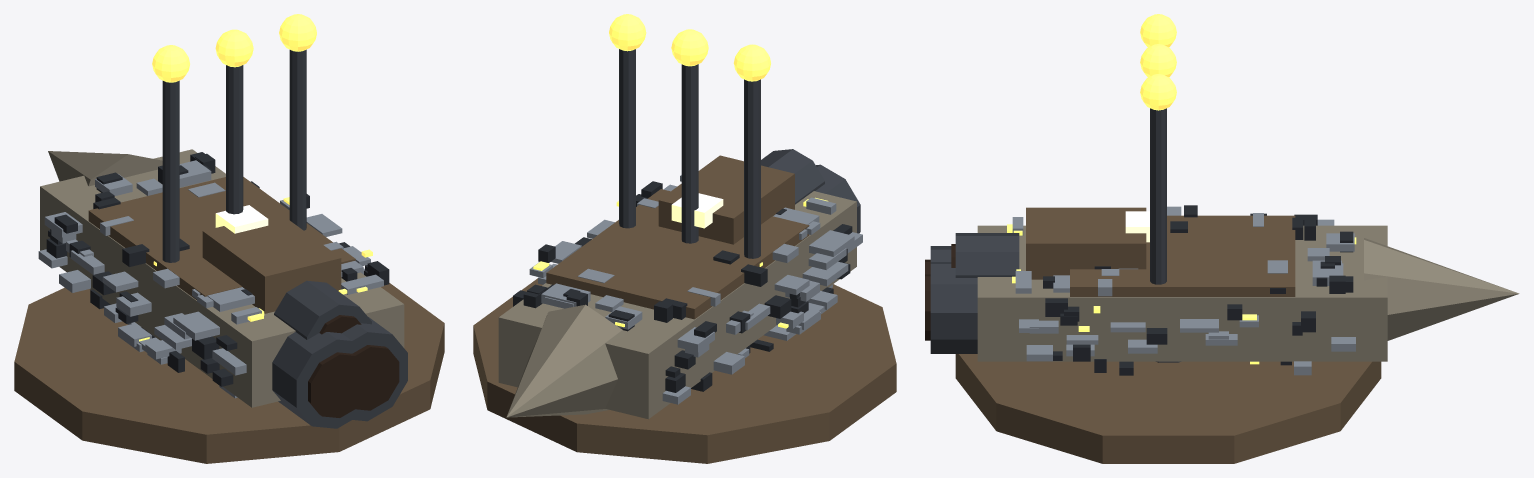
The model's file is plektor_ecm.glb.
3 views of the same model, side by side, from view 1: azimuth 30°, elevation 25°; view 2: azimuth 150°, elevation 25°; view 3: azimuth 270°, elevation 25° (orthographic). The views are drawn at different scales.
Parts seen in each view (by area): view 1: hull, emitter, engines; view 2: hull, emitter, engines; view 3: hull, emitter, engines.
Part boxes in pixels (x1,y1,x2,y2): hull: (38,14,404,407); emitter: (14,283,444,463); engines: (272,280,407,428); hull: (498,14,862,419); emitter: (473,278,896,463); engines: (761,149,860,233); hull: (977,14,1519,375); emitter: (955,354,1381,463); engines: (925,233,1019,353).
Size of the model in its own units: 37.66 by 35.77 by 55.36.
